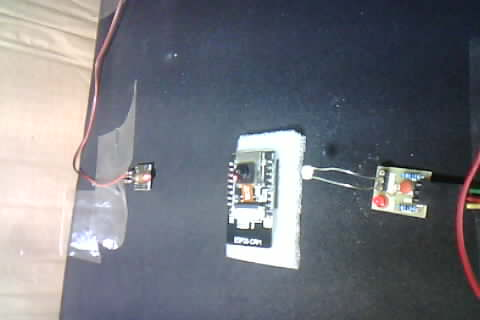esp32: (218, 131, 297, 264)
